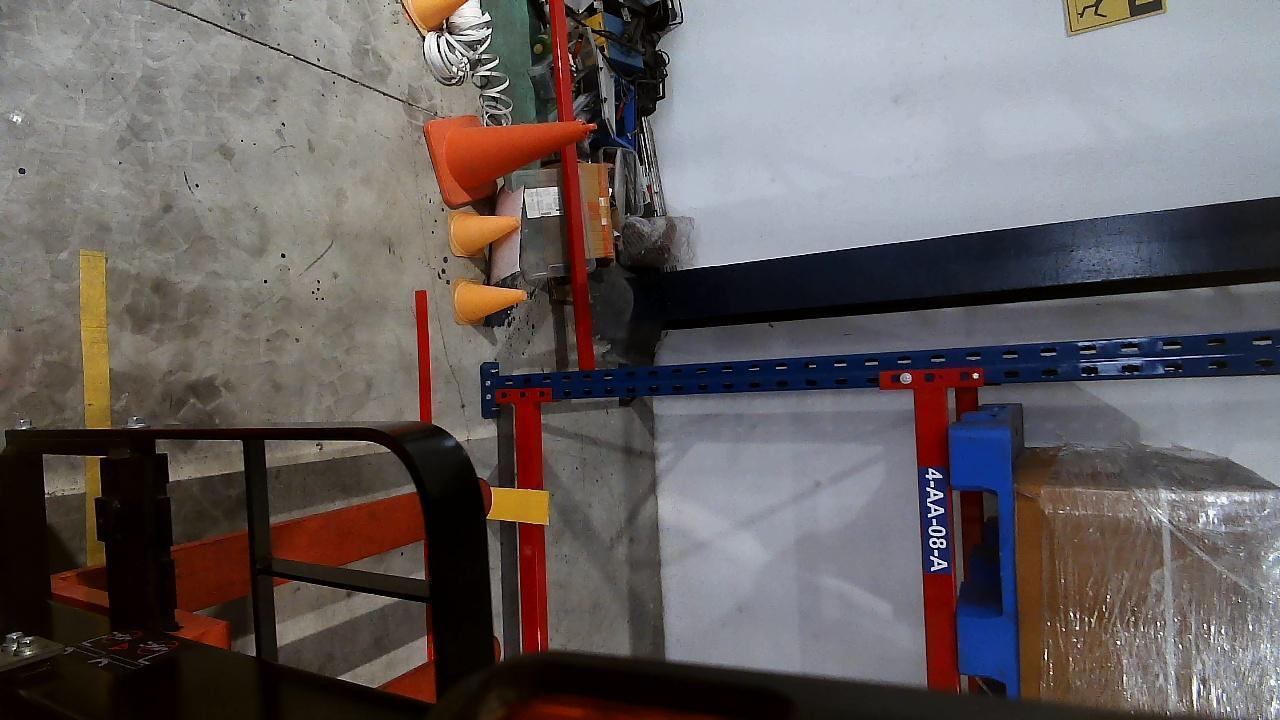red_line: (414, 289, 433, 421)
yellow_line: (77, 250, 111, 429)
